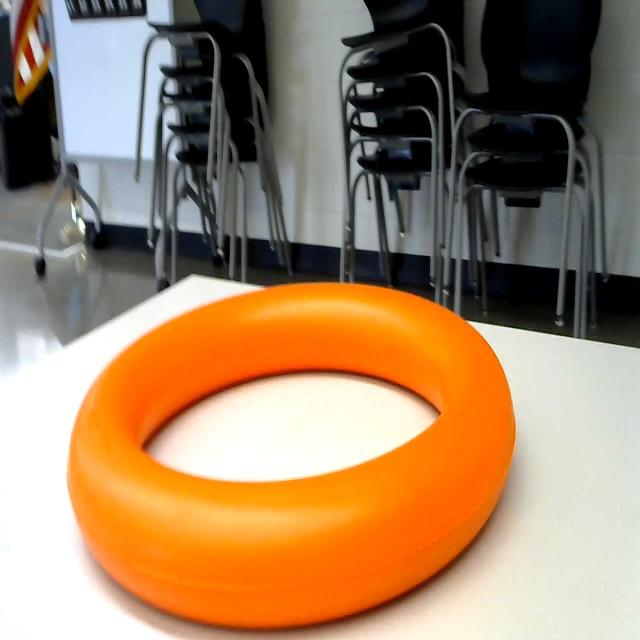note: (51, 262, 527, 640)
